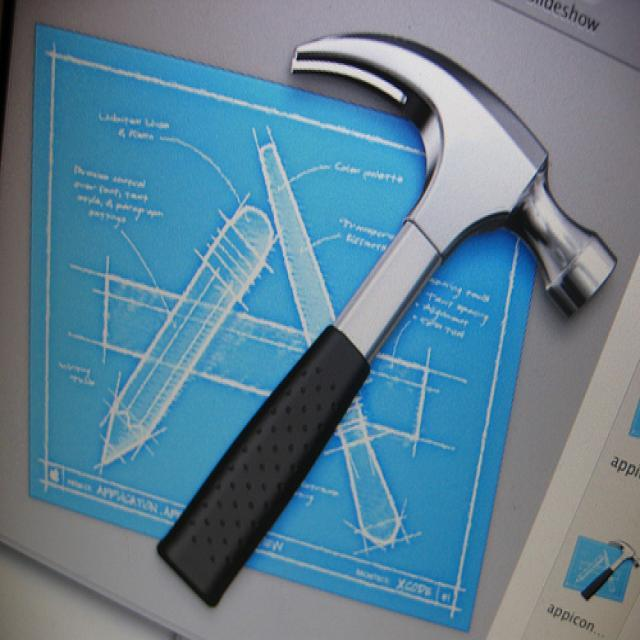hammer: (146, 19, 628, 626)
